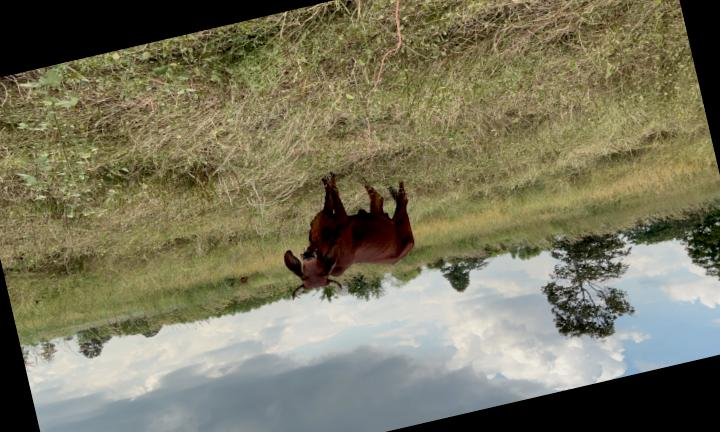Brahman: (284, 175, 414, 299)
